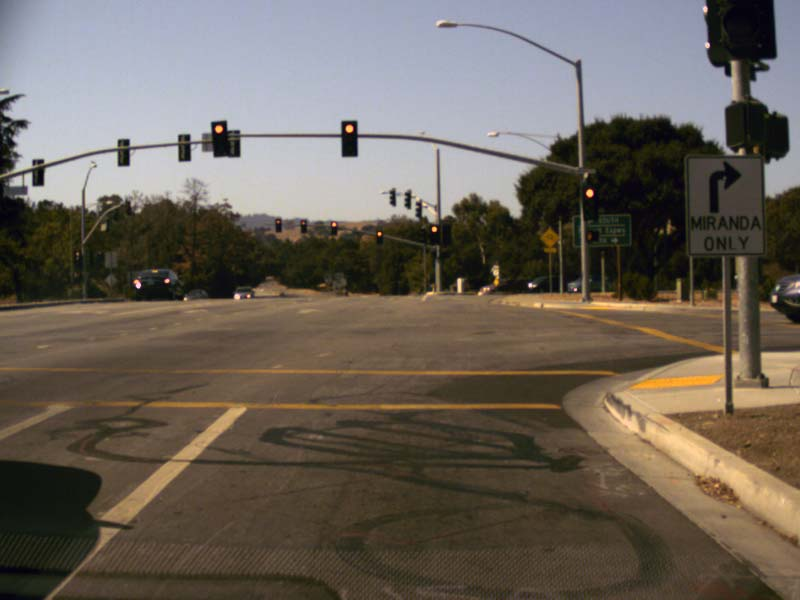Red: (341, 120, 358, 154), (212, 122, 226, 154), (583, 185, 596, 219), (430, 225, 438, 243), (376, 231, 382, 244), (331, 221, 336, 234), (275, 219, 280, 231), (300, 220, 305, 232)
